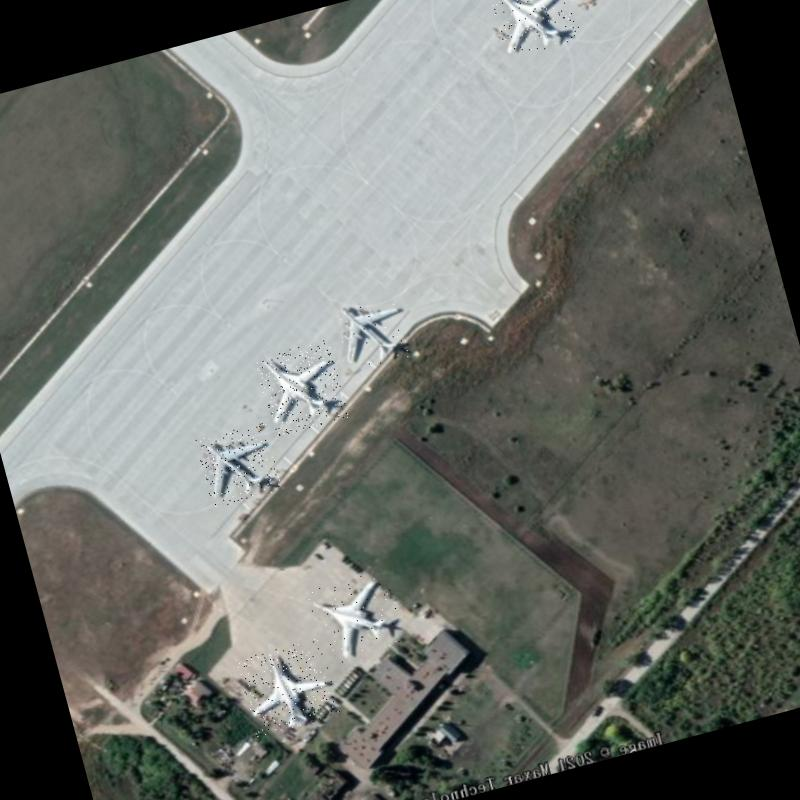A17: (329, 286, 418, 373), (194, 421, 283, 508)
A6: (236, 637, 340, 737), (306, 568, 408, 667), (253, 338, 348, 436), (487, 0, 584, 59)
